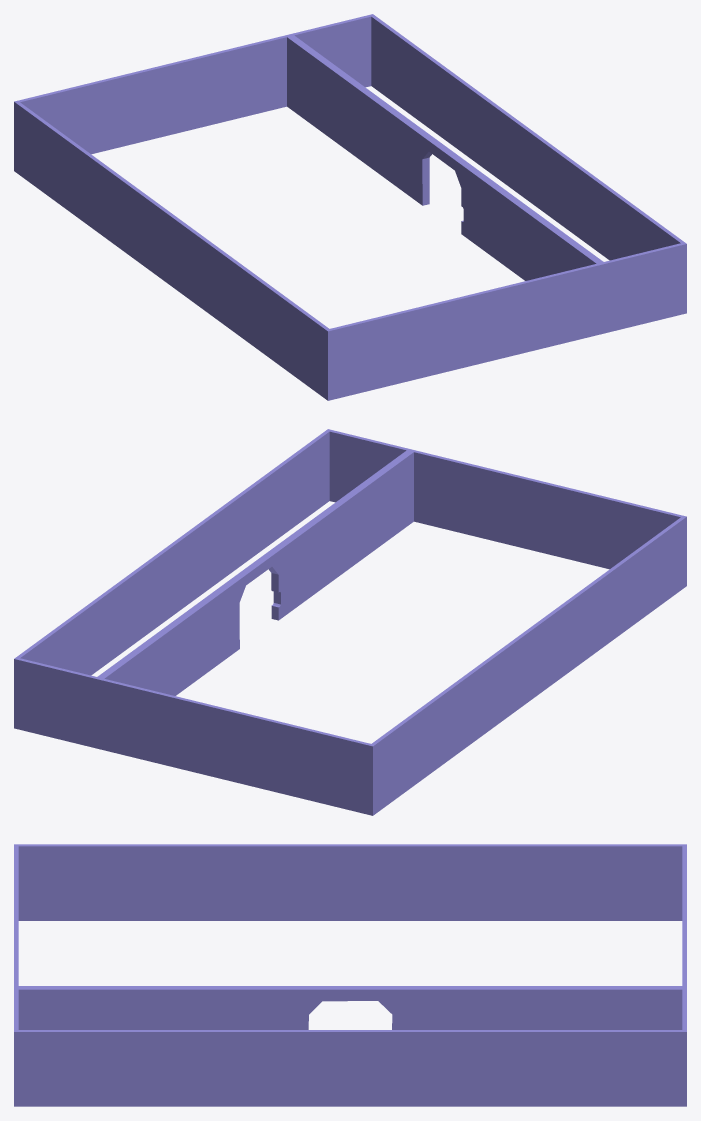
File: NA_wall_1f.fbx
3 views of the same model, one above another, from view 1: azimuth 30°, elevation 25°; view 2: azimuth 150°, elevation 25°; view 3: azimuth 270°, elevation 25° (orthographic). The views are drawn at different scales.
Parts seen in each view (by area): view 1: wall_1f; view 2: wall_1f; view 3: wall_1f.
Boxes of the visible parts, x1,y1,x2,y2 form: wall_1f: (14, 14, 686, 400); wall_1f: (14, 429, 686, 815); wall_1f: (14, 844, 686, 1106).
Size of the model in its own units: 14056 by 2600 by 21300.
